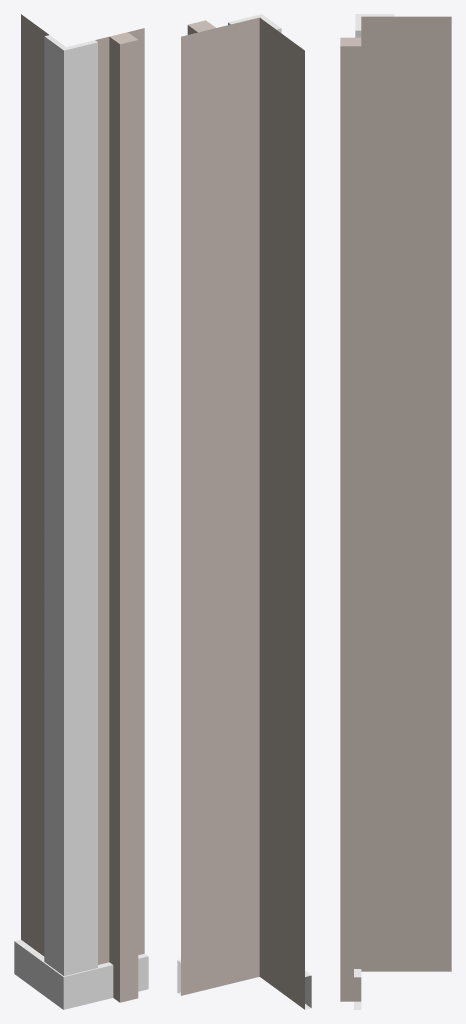
File: mid-c1.fbx
3 renders of one model, left to right at view 1: azimuth 30°, elevation 25°; view 2: azimuth 210°, elevation 25°; view 3: azimuth 270°, elevation 25°, orthographic.
Parts seen in each view (by area): view 1: a2000s2/0/mid-c1; view 2: a2000s2/0/mid-c1; view 3: a2000s2/0/mid-c1.
Boxes of the visible parts, x1=… form: a2000s2/0/mid-c1: x1=14, y1=14, x2=148, y2=1009; a2000s2/0/mid-c1: x1=177, y1=14, x2=311, y2=1009; a2000s2/0/mid-c1: x1=340, y1=14, x2=451, y2=1009.
Bounding box in the file's own units: 0.325 × 3.5 × 0.37.
